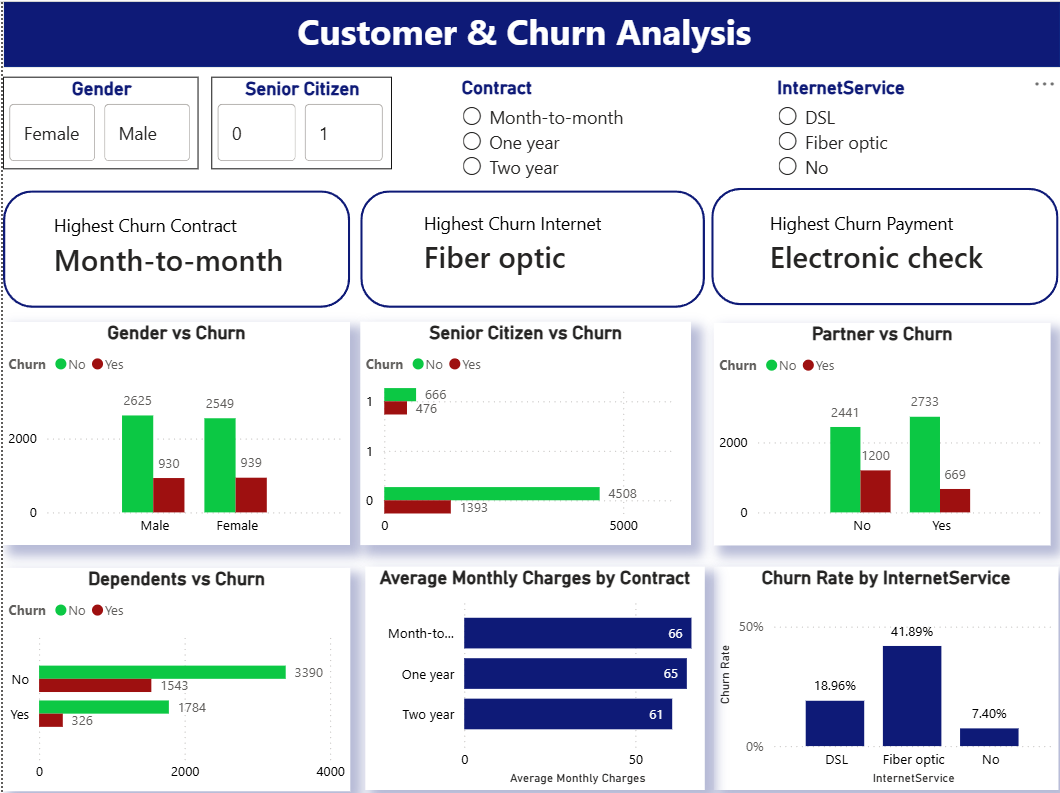

What the dashboard file says about the page in this screenshot:
{"tool":"powerbi","page":{"name":"Page 2","canvas":[960,720],"ordinal":1},"visuals":[{"type":"shape","box":[642.9,169.6,315.1,106.6],"z":0},{"type":"shape","box":[324.3,171.9,312.8,106.6],"z":1000},{"type":"shape","box":[0,171.9,315.1,106.6],"z":2000},{"type":"cardVisual","fields":{"Data":["Measures_Dash_02.Highest Churn Contract"]},"box":[17.2,171.9,283.1,100.8],"z":3000},{"type":"cardVisual","fields":{"Data":["Measures_Dash_02.Highest Churn Internet"]},"box":[353,169.6,262.4,100.8],"z":4000},{"type":"cardVisual","fields":{"Data":["Measures_Dash_02.Highest Churn Payment"]},"box":[666.9,169.6,271.6,100.8],"z":5000},{"type":"shape","box":[0,0,960.3,60.7],"z":6000},{"type":"textbox","box":[262.4,0,435.5,60.7],"z":7000},{"type":"clusteredColumnChart","title":"Gender vs Churn","fields":{"Category":["telecom_churn_clean.gender"],"Y":["Measures_Dash_01.Total Customers"],"Series":["telecom_churn_clean.Churn"]},"box":[0,291.1,315.1,202.8],"z":8000},{"type":"clusteredBarChart","title":"Senior Citizen vs Churn","fields":{"Category":["telecom_churn_clean.SeniorCitizen"],"Y":["Measures_Dash_01.Total Customers"],"Series":["telecom_churn_clean.Churn"]},"box":[324.3,291.1,300.2,202.8],"z":9000},{"type":"clusteredColumnChart","title":"Partner vs Churn","fields":{"Y":["Measures_Dash_01.Total Customers"],"Series":["telecom_churn_clean.Churn"],"Category":["telecom_churn_clean.Partner"]},"box":[645.2,292.2,306,201.7],"z":10000},{"type":"clusteredBarChart","title":"Dependents vs Churn","fields":{"Category":["telecom_churn_clean.Dependents"],"Y":["Measures_Dash_01.Total Customers"],"Series":["telecom_churn_clean.Churn"]},"box":[0,514.5,315.1,202.8],"z":11000},{"type":"columnChart","fields":{"Category":["telecom_churn_clean.Contract","telecom_churn_clean.InternetService"],"Y":["Measures_Dash_01.Churn Rate"]},"box":[645.2,513.4,312.8,202.8],"z":12000},{"type":"clusteredBarChart","fields":{"Category":["telecom_churn_clean.Contract"],"Y":["Measures_Dash_01.Average Monthly Charges"]},"box":[328.9,513.4,308.3,202.8],"z":13000},{"type":"advancedSlicerVisual","title":"Gender","fields":{"Values":["telecom_churn_clean.gender"]},"box":[0,68.8,177.6,83.7],"z":14000},{"type":"advancedSlicerVisual","title":"Senior Citizen","fields":{"Values":["telecom_churn_clean.SeniorCitizen"]},"box":[189.1,68.8,163.9,83.7],"z":15000},{"type":"listSlicer","fields":{"Values":["telecom_churn_clean.Contract"]},"box":[411.4,68.8,171.9,100.8],"z":16000},{"type":"listSlicer","fields":{"Values":["telecom_churn_clean.InternetService"]},"box":[697.9,68.8,171.9,100.8],"z":17000}]}

Visuals, with their boxes in screenshot pixels (x1, y1, x2, y2), scaled from the page's 960x720 canvas onto the 1060x793 screenshot:
shape: bbox=(710, 187, 1058, 304)
shape: bbox=(358, 189, 703, 307)
shape: bbox=(0, 189, 348, 307)
cardVisual - Measures_Dash_02.Highest Churn Contract: bbox=(19, 189, 332, 300)
cardVisual - Measures_Dash_02.Highest Churn Internet: bbox=(390, 187, 680, 298)
cardVisual - Measures_Dash_02.Highest Churn Payment: bbox=(736, 187, 1036, 298)
shape: bbox=(0, 0, 1059, 67)
textbox: bbox=(290, 0, 771, 67)
"Gender vs Churn" clusteredColumnChart: bbox=(0, 321, 348, 544)
"Senior Citizen vs Churn" clusteredBarChart: bbox=(358, 321, 690, 544)
"Partner vs Churn" clusteredColumnChart: bbox=(712, 322, 1050, 544)
"Dependents vs Churn" clusteredBarChart: bbox=(0, 567, 348, 790)
columnChart - telecom_churn_clean.Contract x telecom_churn_clean.InternetService: bbox=(712, 565, 1058, 789)
clusteredBarChart - telecom_churn_clean.Contract x Measures_Dash_01.Average Monthly Charges: bbox=(363, 565, 704, 789)
"Gender" advancedSlicerVisual: bbox=(0, 76, 196, 168)
"Senior Citizen" advancedSlicerVisual: bbox=(209, 76, 390, 168)
listSlicer - telecom_churn_clean.Contract: bbox=(454, 76, 644, 187)
listSlicer - telecom_churn_clean.InternetService: bbox=(771, 76, 960, 187)
